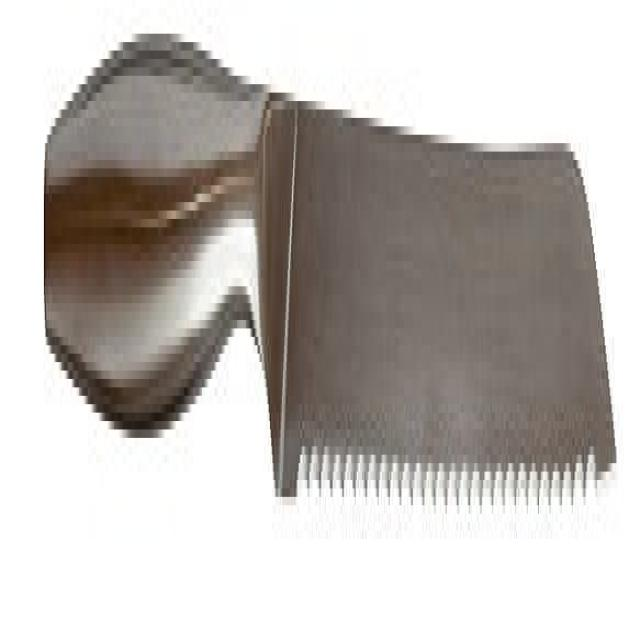knife: (36, 16, 624, 587)
